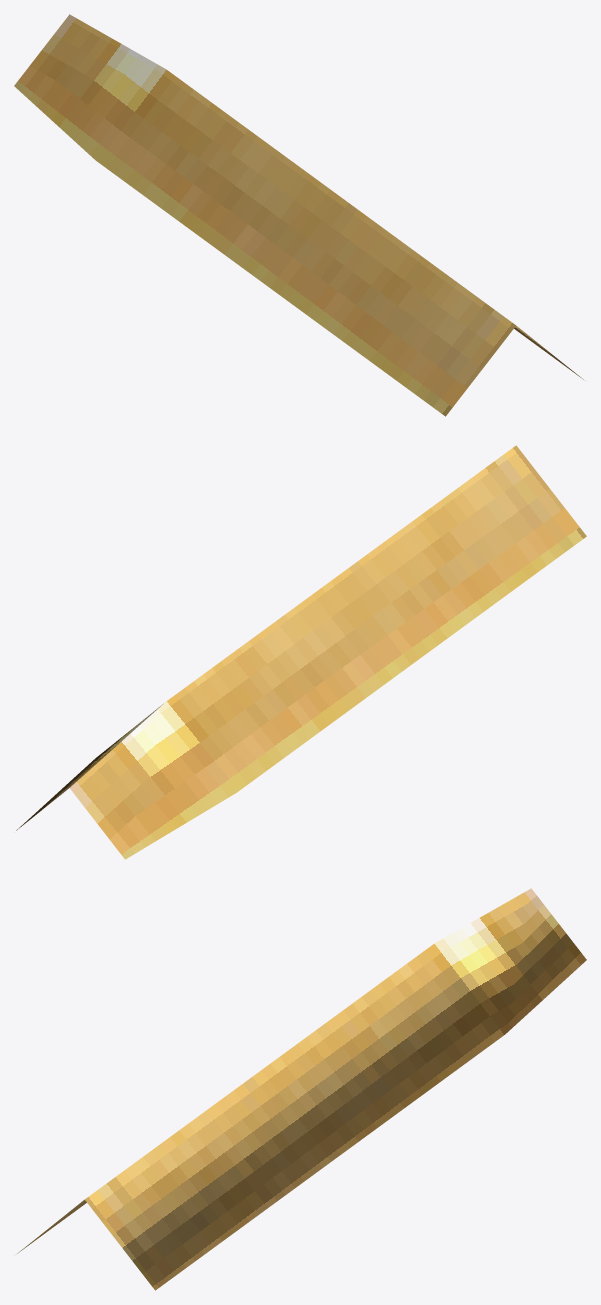
Rendered from RifleBullet_Casing.fbx.
3 views of the same model, one above another, from view 1: azimuth 30°, elevation 25°; view 2: azimuth 150°, elevation 25°; view 3: azimuth 330°, elevation 25° (orthographic).
Parts seen in each view (by area): view 1: Rifle_Casing.001; view 2: Rifle_Casing.001; view 3: Rifle_Casing.001.
Part boxes in pixels (<box>): Rifle_Casing.001: <box>14,14,583,416</box>; Rifle_Casing.001: <box>16,445,586,859</box>; Rifle_Casing.001: <box>17,888,586,1290</box>.
Bounding box in the file's own units: 0.00997 × 0.00498 × 0.0546.
